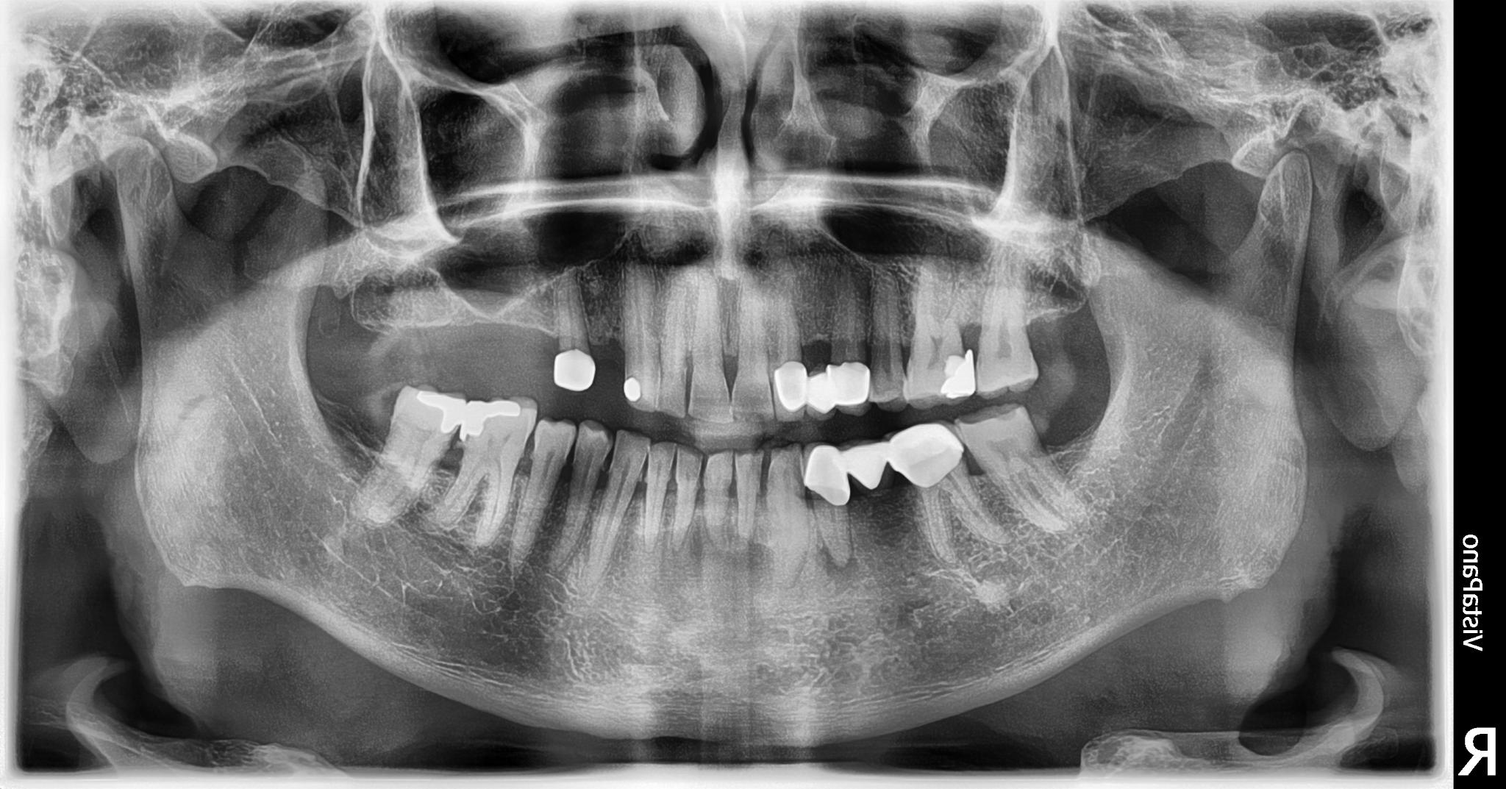Premolars: (443, 324, 1284, 759)
